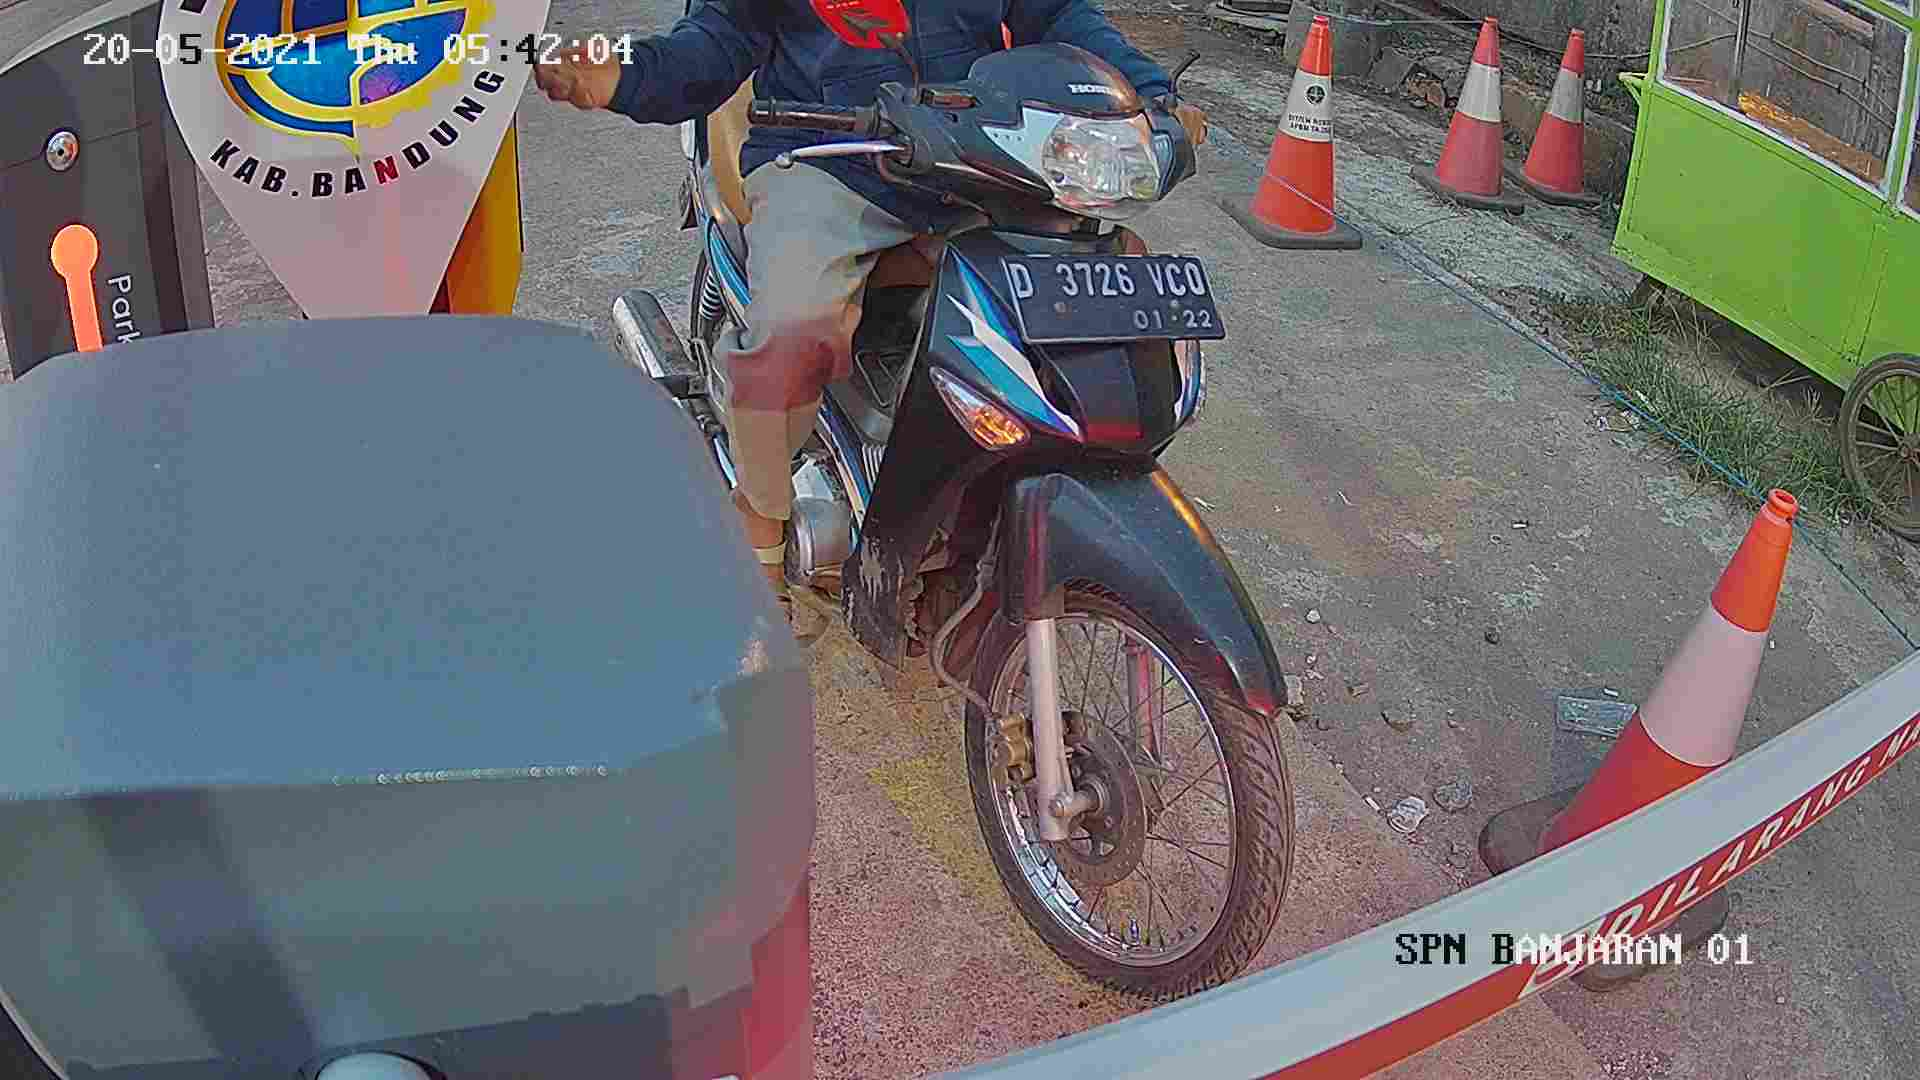motor: (611, 74, 1429, 1007)
